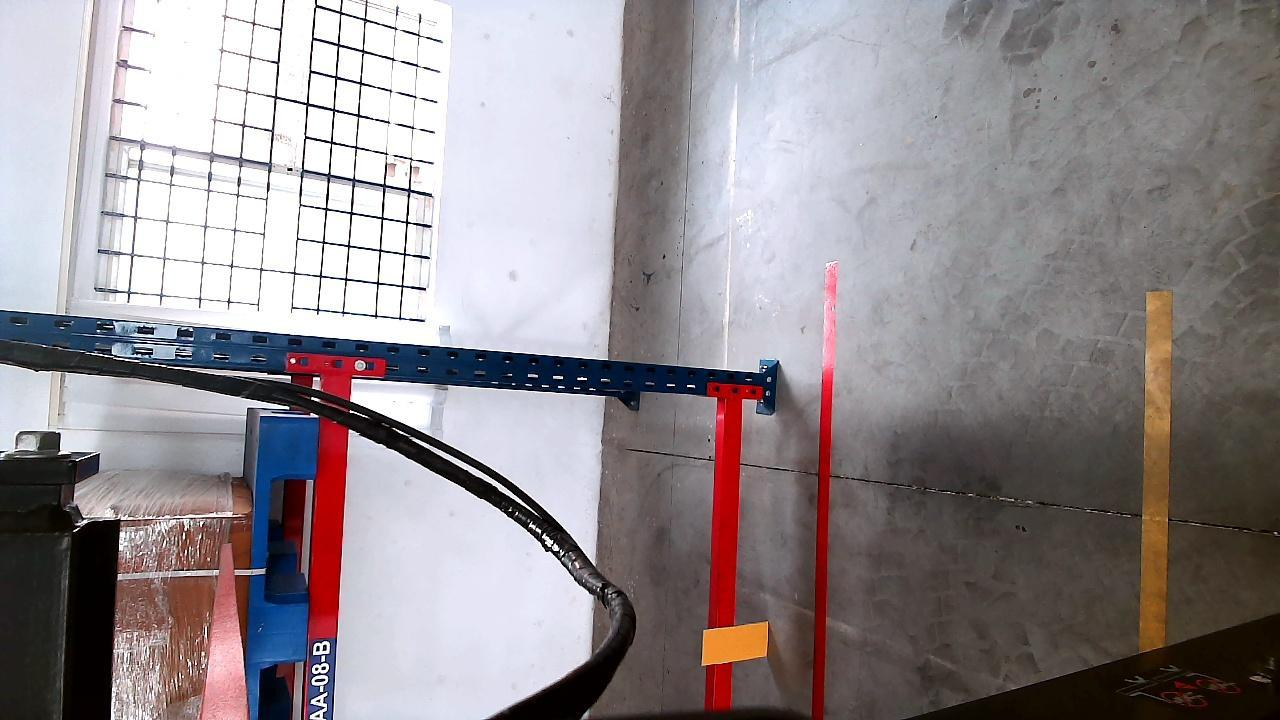red_line: (811, 256, 837, 720)
yellow_line: (1142, 288, 1175, 646)
